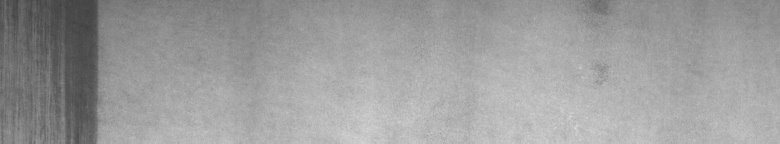ka: (4, 4, 105, 136)
